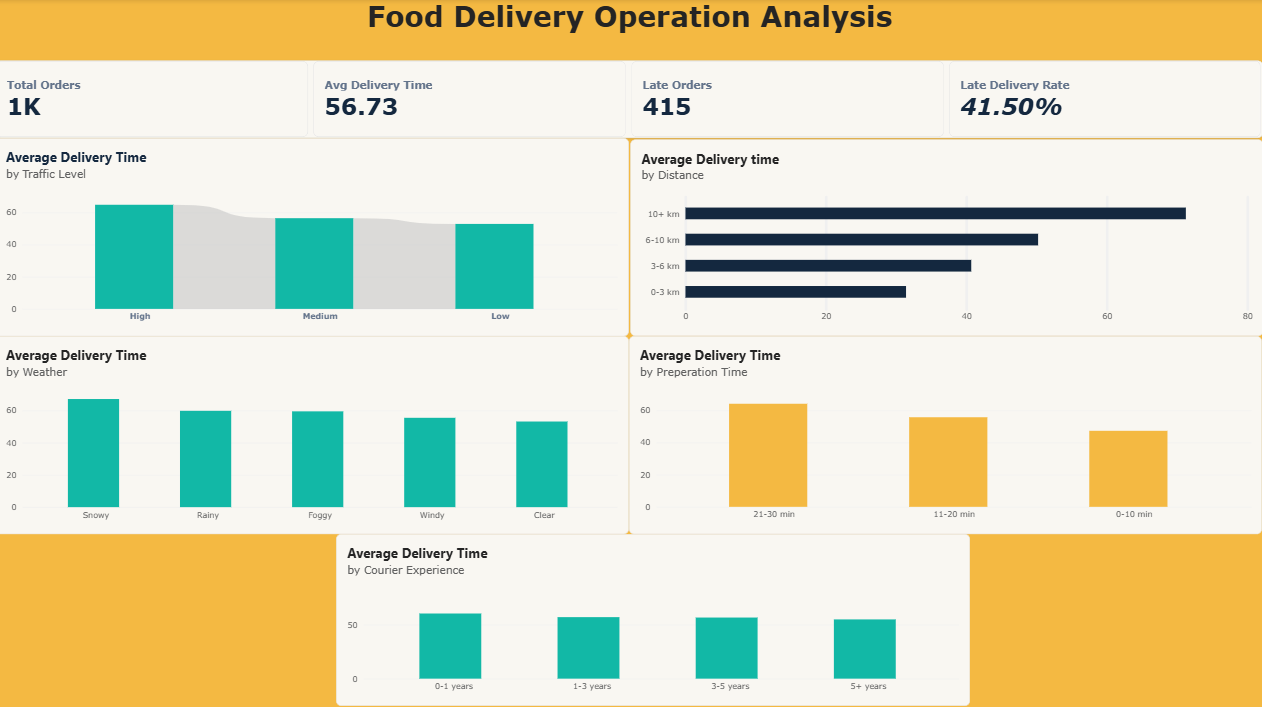

The page's visual inventory and layout, read from the dashboard file:
{"tool":"powerbi","page":{"name":"Page 1","canvas":[1920,1080],"ordinal":0},"visuals":[{"type":"cardVisual","fields":{"Data":["FoodDelivery.Total Orders","FoodDelivery.Avg Delivery Time","FoodDelivery.Late Orders","FoodDelivery.Late Delivery Rate"]},"box":[0,93.1,1920.7,117.4],"z":0},{"type":"columnChart","fields":{"Category":["FoodDelivery.Traffic_Level"],"Y":["Avg(FoodDelivery.Delivery_Time_min)"]},"box":[0,210.5,959.3,299.5],"z":1},{"type":"textbox","box":[2,0,1916.6,93.1],"z":2},{"type":"clusteredBarChart","fields":{"Y":["Avg(FoodDelivery.Delivery_Time_min)"],"Category":["FoodDelivery.Distance_Group"]},"box":[961.3,212.5,959.3,297.5],"z":3},{"type":"clusteredColumnChart","fields":{"Category":["FoodDelivery.Weather"],"Y":["Avg(FoodDelivery.Delivery_Time_min)"]},"box":[0,510,959,300],"z":4},{"type":"clusteredColumnChart","fields":{"Category":["FoodDelivery.Preparation_Group"],"Y":["Avg(FoodDelivery.Delivery_Time_min)"]},"box":[959.3,510,959.3,299.5],"z":5},{"type":"clusteredColumnChart","fields":{"Category":["FoodDelivery.Experience_Group"],"Y":["Avg(FoodDelivery.Delivery_Time_min)"]},"box":[516.1,809.6,959,260],"z":6}]}

Visuals, with their boxes in screenshot pixels (x1, y1, x2, y2), scaled from the page's 1920x1080 canvas onto the 1262x707 screenshot:
cardVisual - FoodDelivery.Total Orders x FoodDelivery.Avg Delivery Time: Rect(0, 61, 1261, 138)
columnChart - FoodDelivery.Traffic_Level x Avg(FoodDelivery.Delivery_Time_min): Rect(0, 138, 631, 334)
textbox: Rect(1, 0, 1261, 61)
clusteredBarChart - Avg(FoodDelivery.Delivery_Time_min) x FoodDelivery.Distance_Group: Rect(632, 139, 1261, 334)
clusteredColumnChart - FoodDelivery.Weather x Avg(FoodDelivery.Delivery_Time_min): Rect(0, 334, 630, 530)
clusteredColumnChart - FoodDelivery.Preparation_Group x Avg(FoodDelivery.Delivery_Time_min): Rect(631, 334, 1261, 530)
clusteredColumnChart - FoodDelivery.Experience_Group x Avg(FoodDelivery.Delivery_Time_min): Rect(339, 530, 970, 700)
